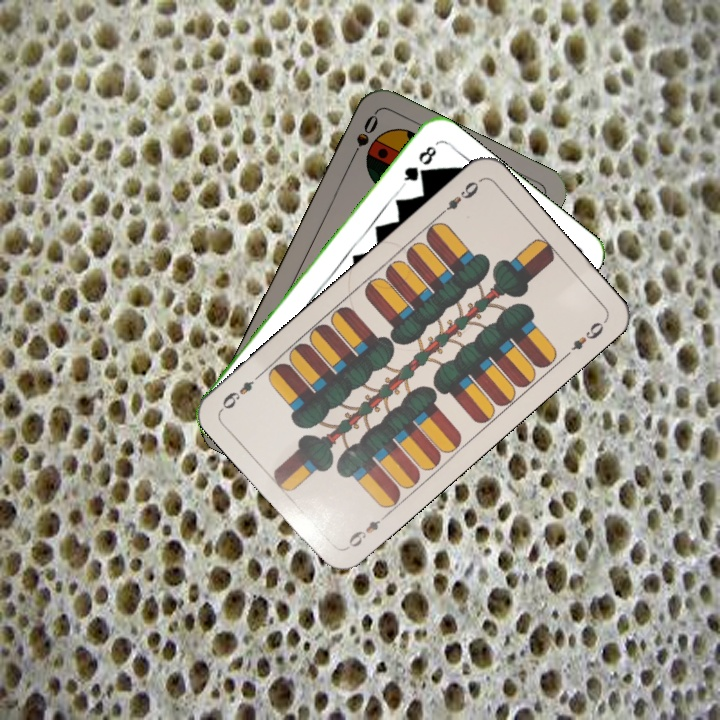E9: (342, 509, 391, 553), (435, 177, 481, 219)
G8: (397, 141, 440, 189)
SO: (346, 110, 381, 165)
